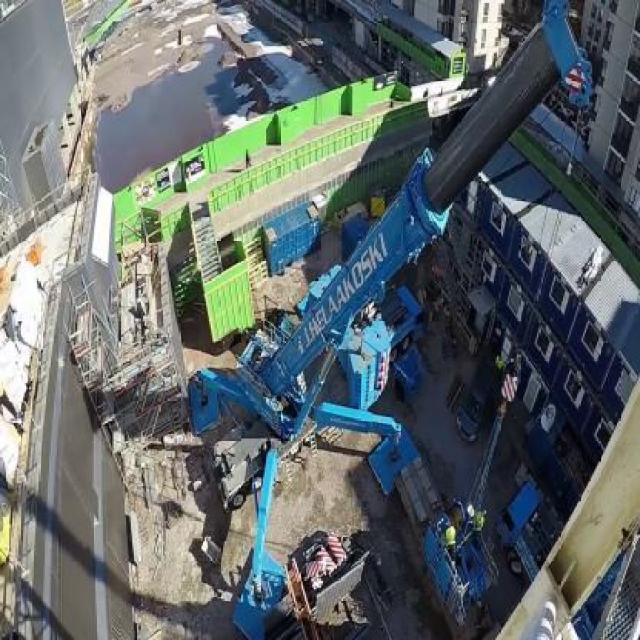Mobile Crane: (172, 5, 602, 627)
